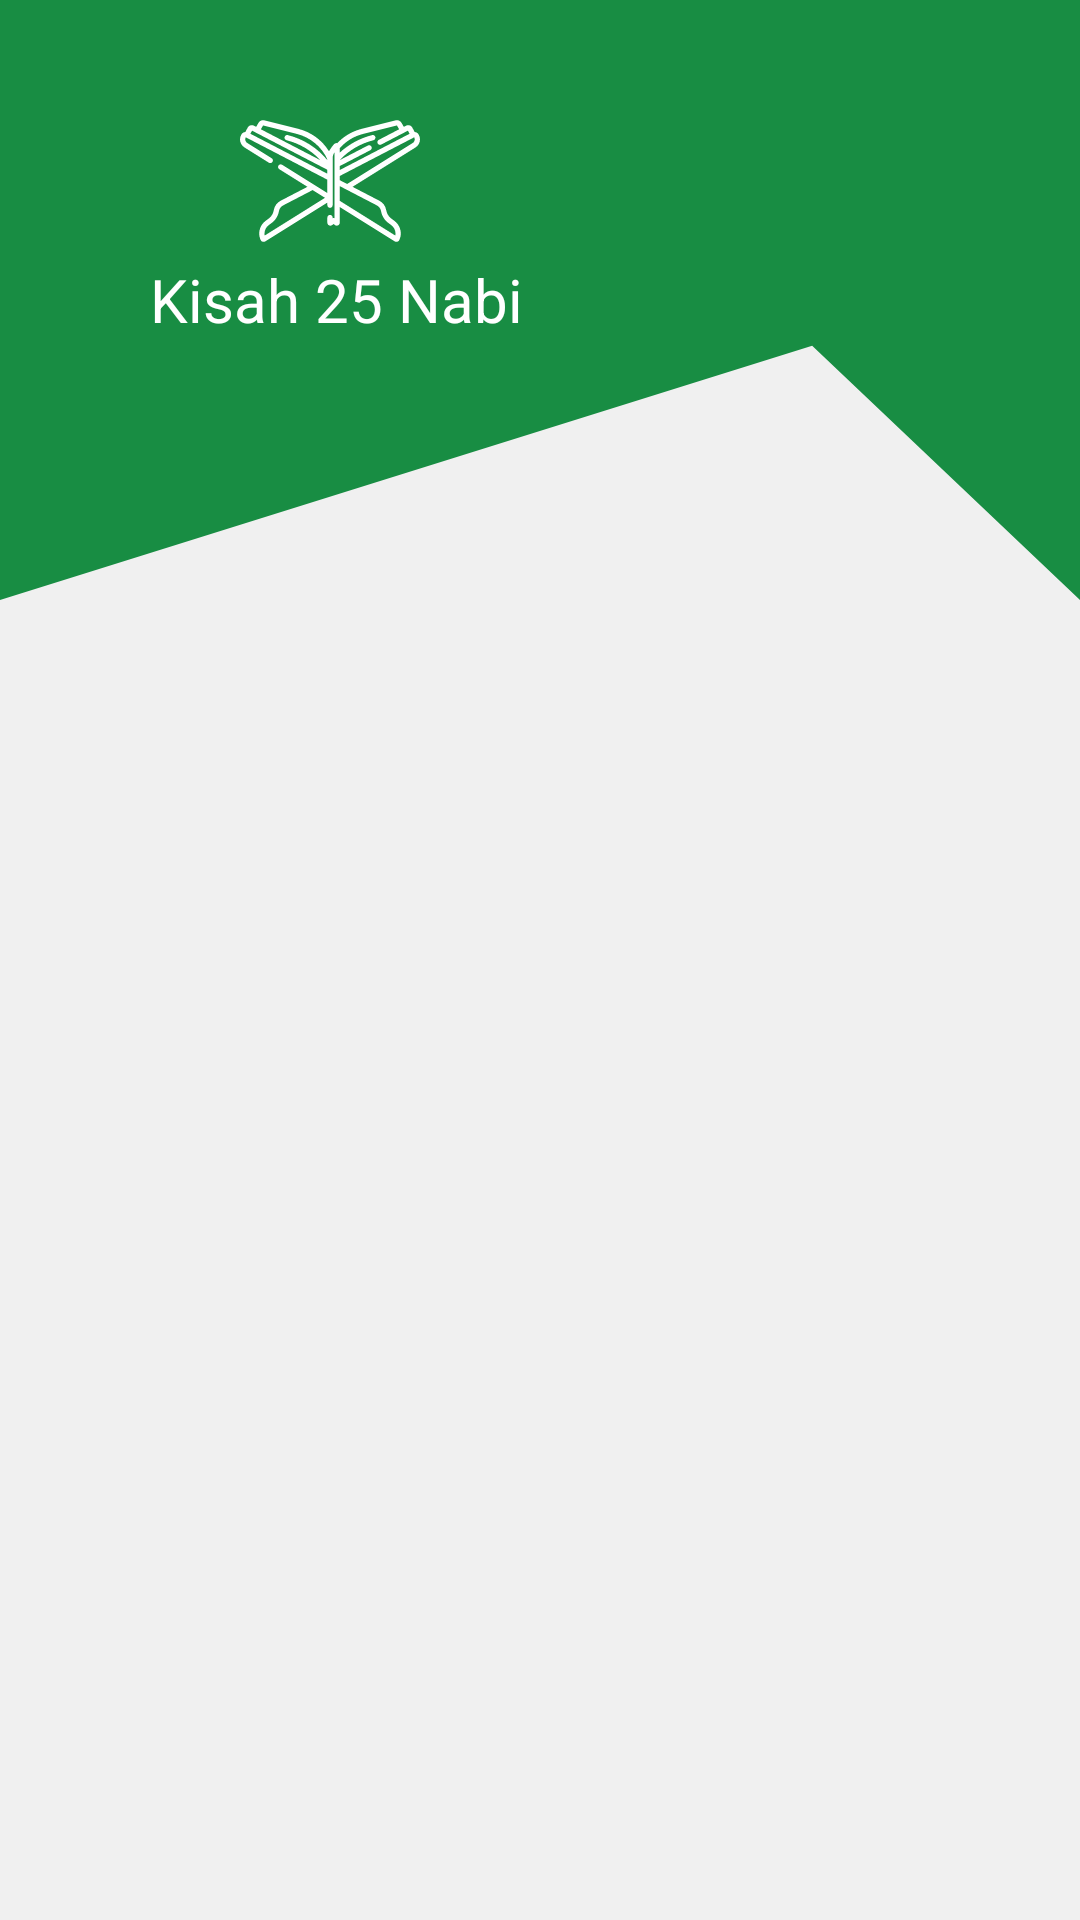

Icons on this 1080w x 1920h Android screen, each with its box as (x1, y1, x2, y2):
quran: (240, 120, 420, 242)
